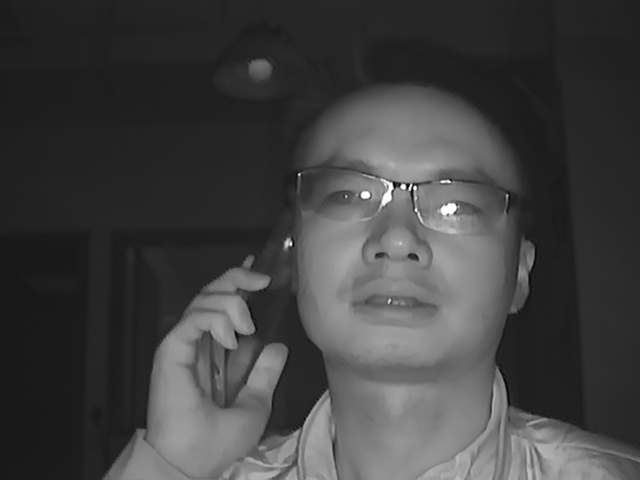hand: (149, 260, 287, 461)
